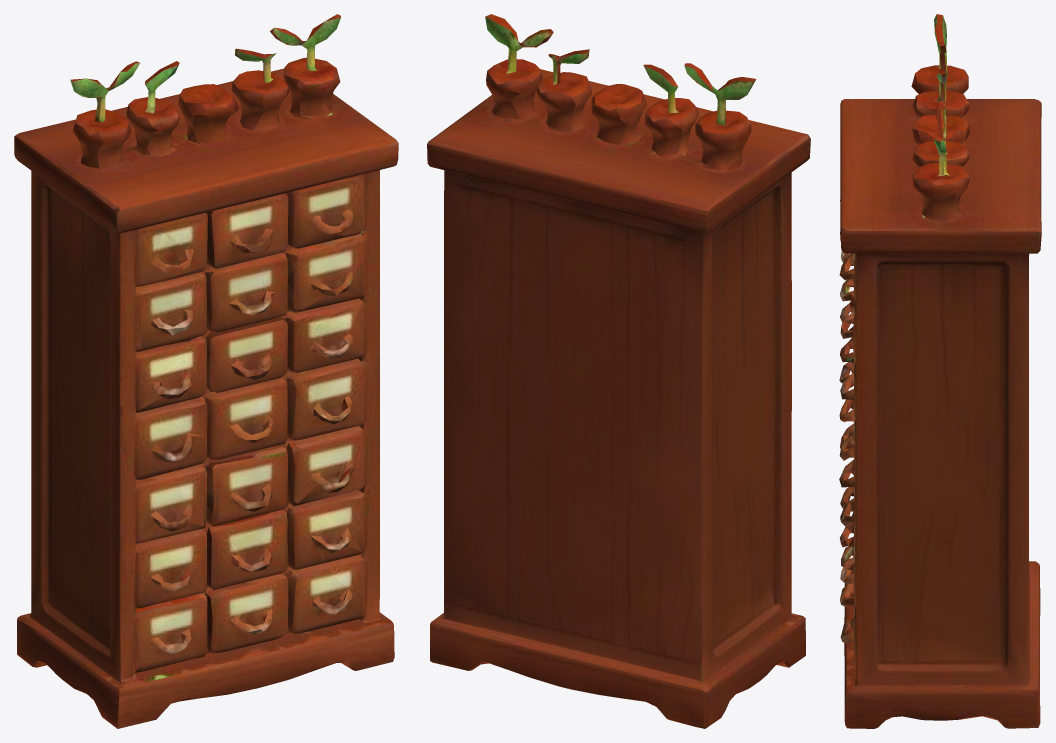
File: seed_drawers.glb
3 views of the same model, side by side, from view 1: azimuth 30°, elevation 25°; view 2: azimuth 150°, elevation 25°; view 3: azimuth 270°, elevation 25° (orthographic). The views are drawn at different scales.
Visible parts, largest first — view 1: seed_drawers2; view 2: seed_drawers2; view 3: seed_drawers2.
Part boxes in pixels (box(x1,y1,x2,y2)): seed_drawers2: box(14, 14, 398, 728); seed_drawers2: box(427, 14, 810, 728); seed_drawers2: box(839, 14, 1041, 728).
Size of the model in its own units: 0.4822 by 1 by 0.311.
Materials: 1 (1 with a texture image).
